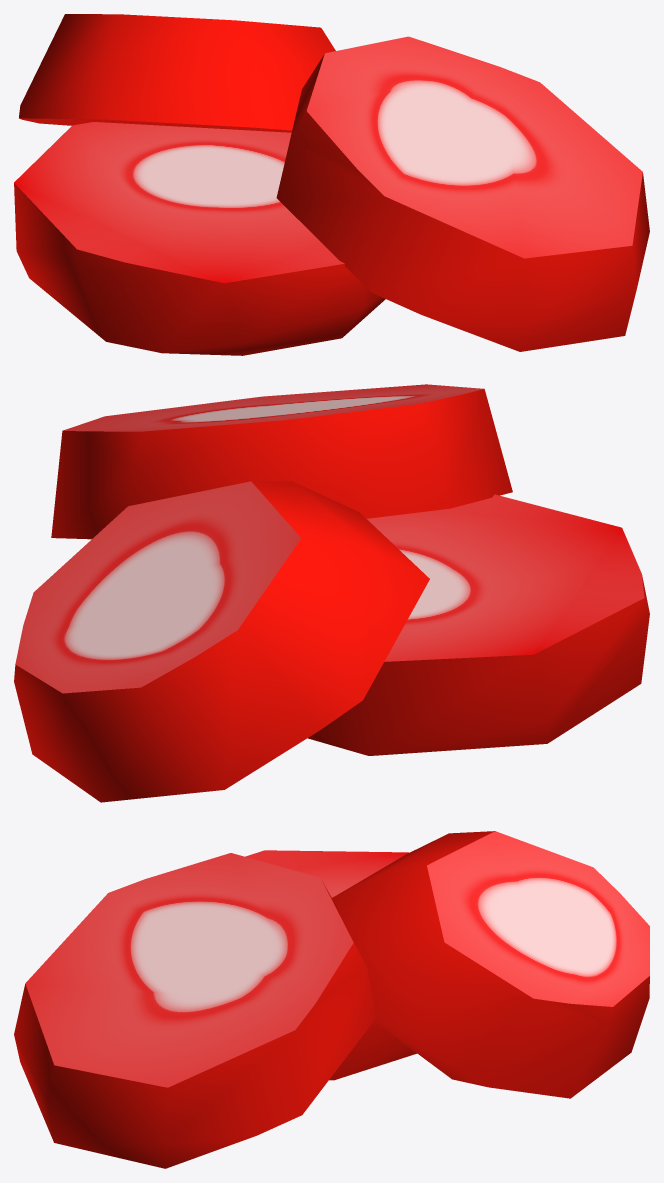
The model's file is SM_Strawberry_CB.fbx.
3 renders of one model, top to bottom at view 1: azimuth 30°, elevation 25°; view 2: azimuth 150°, elevation 25°; view 3: azimuth 270°, elevation 25°, orthographic. The views are drawn at different scales.
Parts seen in each view (by area): view 1: Strawberry_Part.004, Strawberry_Part, Strawberry_Part.003; view 2: Strawberry_Part.003, Strawberry_Part, Strawberry_Part.004; view 3: Strawberry_Part.004, Strawberry_Part.003, Strawberry_Part.
Boxes of the visible parts, bbox=[...] form: Strawberry_Part.004: bbox=[276, 36, 649, 351]; Strawberry_Part: bbox=[14, 122, 385, 355]; Strawberry_Part.003: bbox=[19, 14, 335, 132]; Strawberry_Part.003: bbox=[14, 481, 429, 802]; Strawberry_Part: bbox=[308, 494, 649, 755]; Strawberry_Part.004: bbox=[51, 384, 512, 539]; Strawberry_Part.004: bbox=[14, 853, 375, 1168]; Strawberry_Part.003: bbox=[332, 831, 649, 1098]; Strawberry_Part: bbox=[245, 850, 416, 1080].
Bounding box in the file's own units: 78.13 × 30.71 × 90.36.
